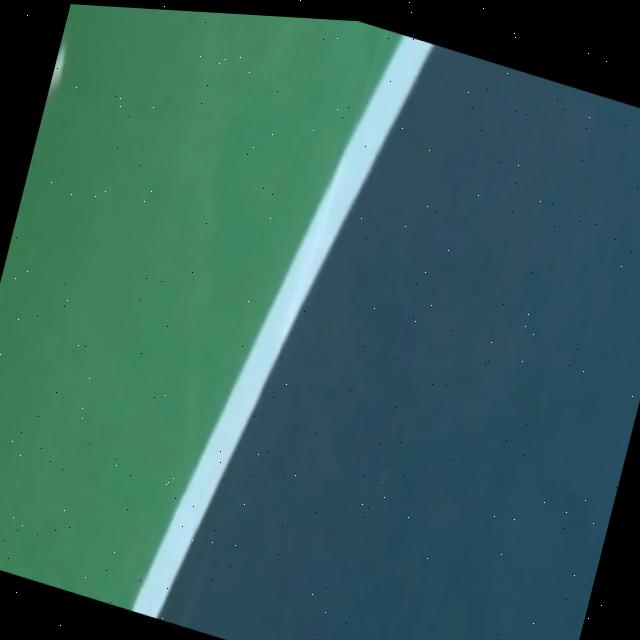center: (132, 35, 434, 619)
